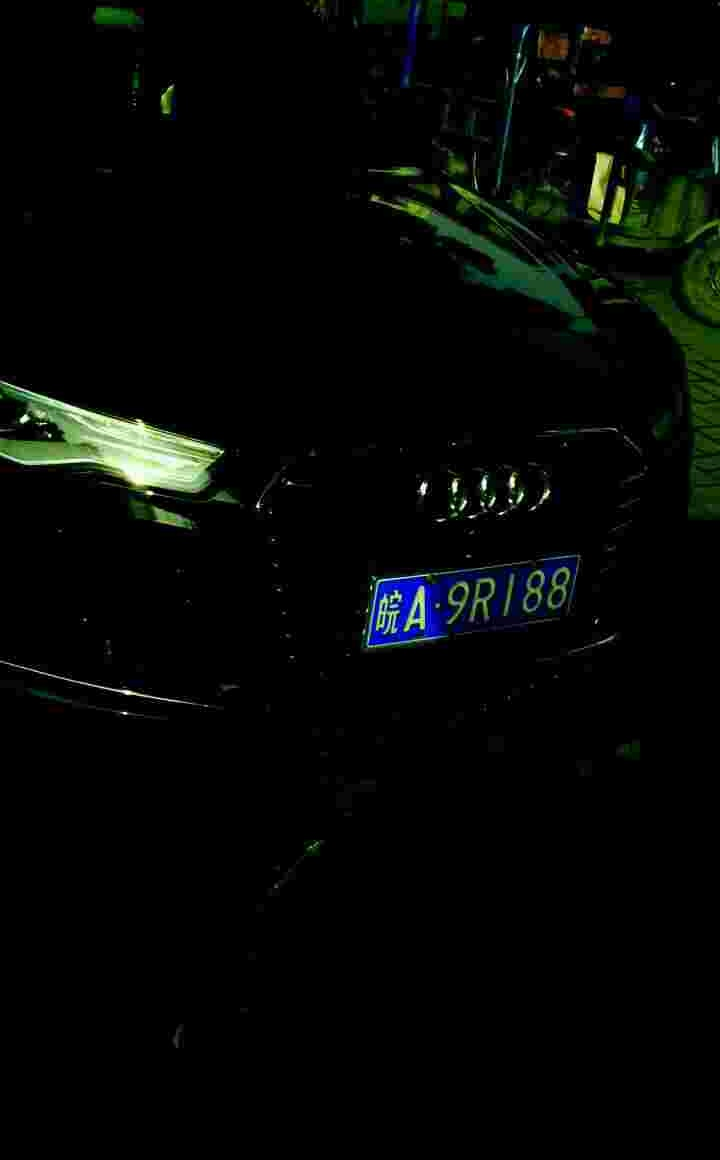license_plate: (368, 560, 588, 653)
